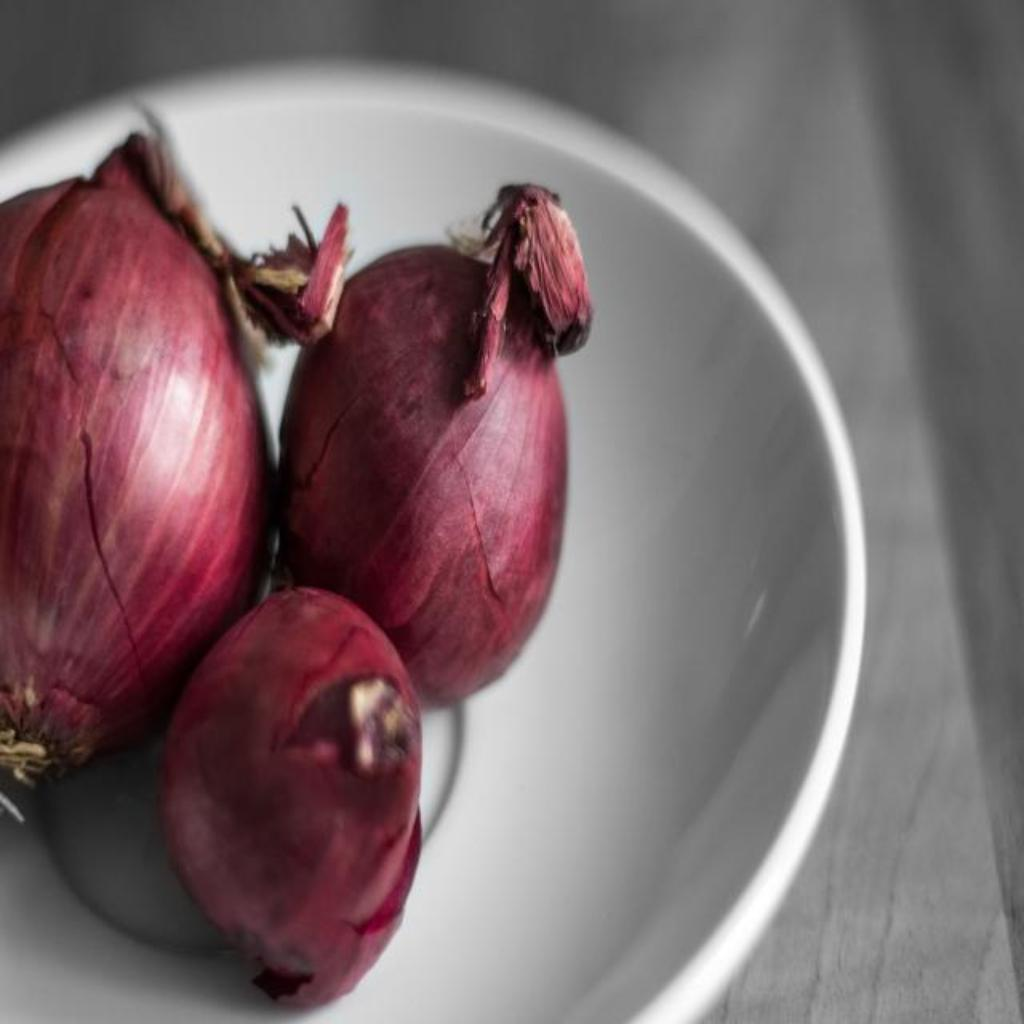Onion: (0, 146, 267, 782), (283, 184, 594, 705)
